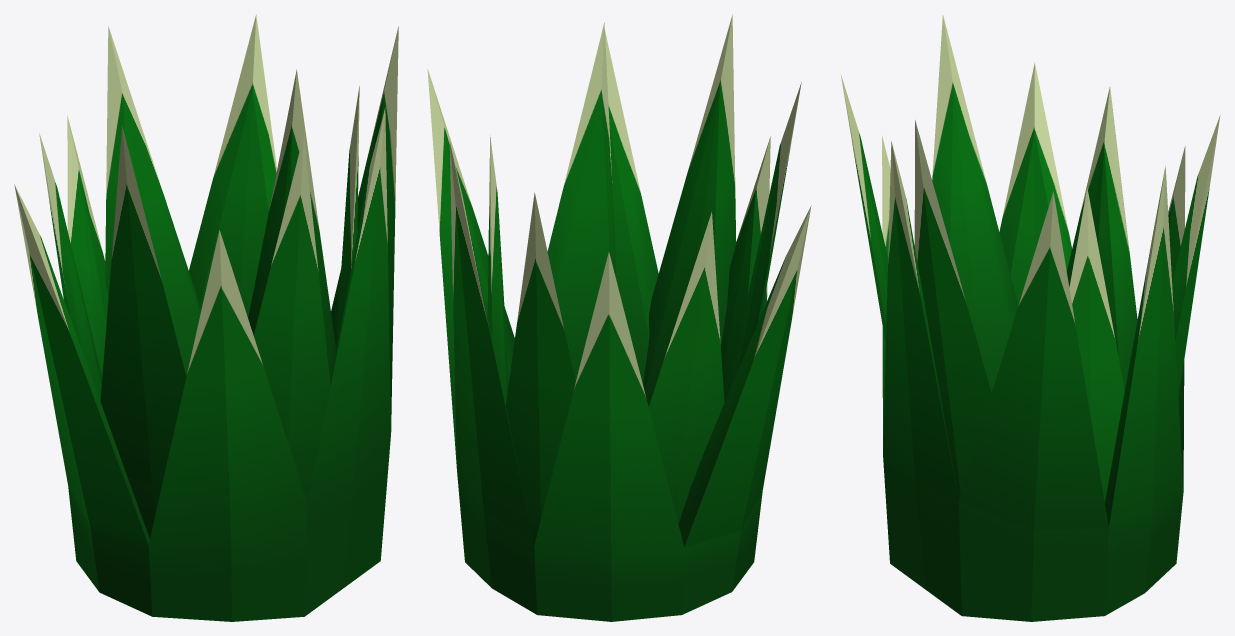
File: Grass.fbx
The picture shows the model from 3 angles, left to right: view 1: azimuth 30°, elevation 25°; view 2: azimuth 150°, elevation 25°; view 3: azimuth 270°, elevation 25°; orthographic projection. The views are drawn at different scales.
Visible parts, largest first — view 1: GrassBase, GrassSub; view 2: GrassBase, GrassSub; view 3: GrassBase, GrassSub.
Part boxes in pixels (x1=…): GrassBase: x1=14, y1=14, x2=398, y2=621; GrassSub: x1=39, y1=26, x2=359, y2=538; GrassBase: x1=427, y1=31, x2=811, y2=621; GrassSub: x1=487, y1=15, x2=801, y2=544; GrassBase: x1=882, y1=62, x2=1185, y2=621; GrassSub: x1=840, y1=15, x2=1220, y2=502.
Bounding box in the file's own units: 1.29 × 1.15 × 1.59.
1 material, 1 textured.
